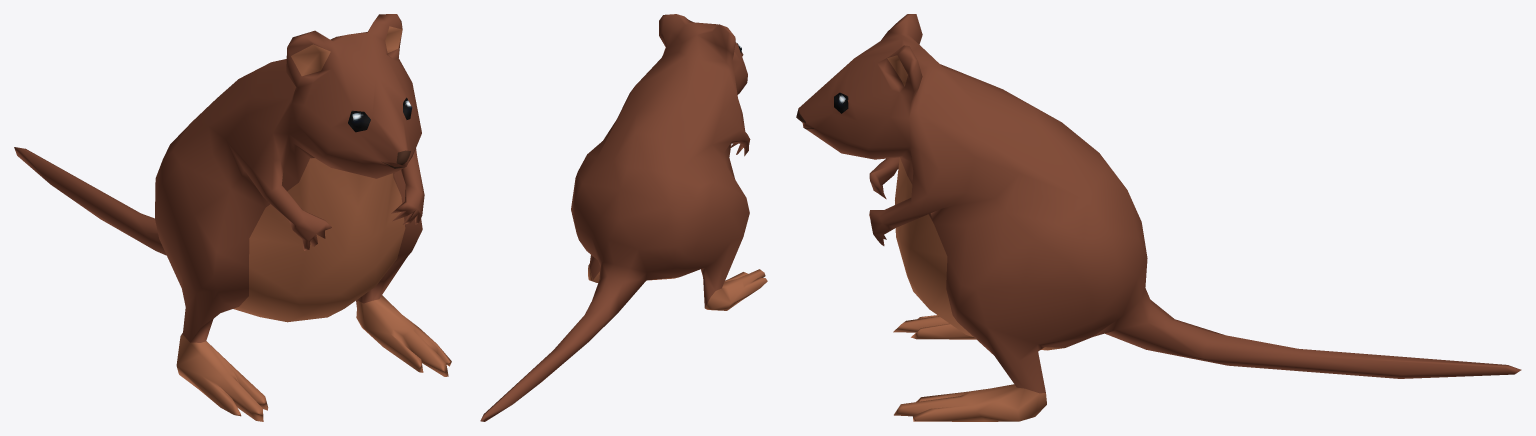
Rendered from d6fee2a9-8c7a-4ac6-a06d-6926863b3784.glb.
3 views of the same model, side by side, from view 1: azimuth 30°, elevation 25°; view 2: azimuth 150°, elevation 25°; view 3: azimuth 270°, elevation 25° (orthographic). The views are drawn at different scales.
Visible parts, largest first — view 1: Quokka; view 2: Quokka; view 3: Quokka.
Part boxes in pixels (box(x1,y1,x2,y2)): Quokka: box(14, 14, 451, 421); Quokka: box(480, 14, 767, 421); Quokka: box(796, 14, 1521, 421).
Size of what is drawn, in the model's own units: 0.4403 by 0.7154 by 1.36.
Materials: 1 (1 with a texture image).
